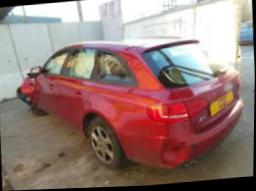Fender: (14, 74, 41, 110)
